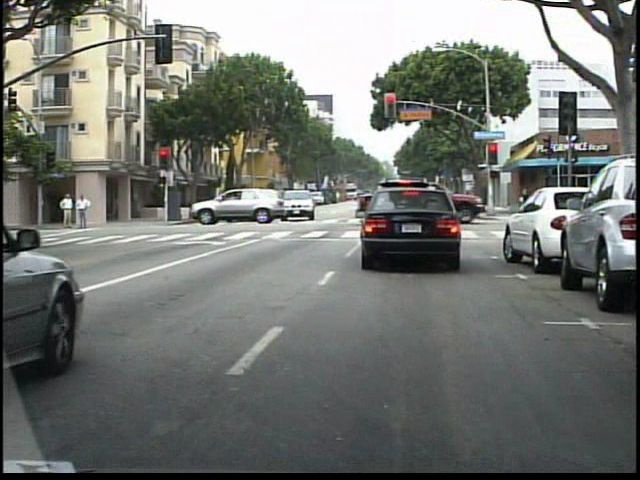person: (54, 189, 72, 232), (72, 191, 88, 231)
